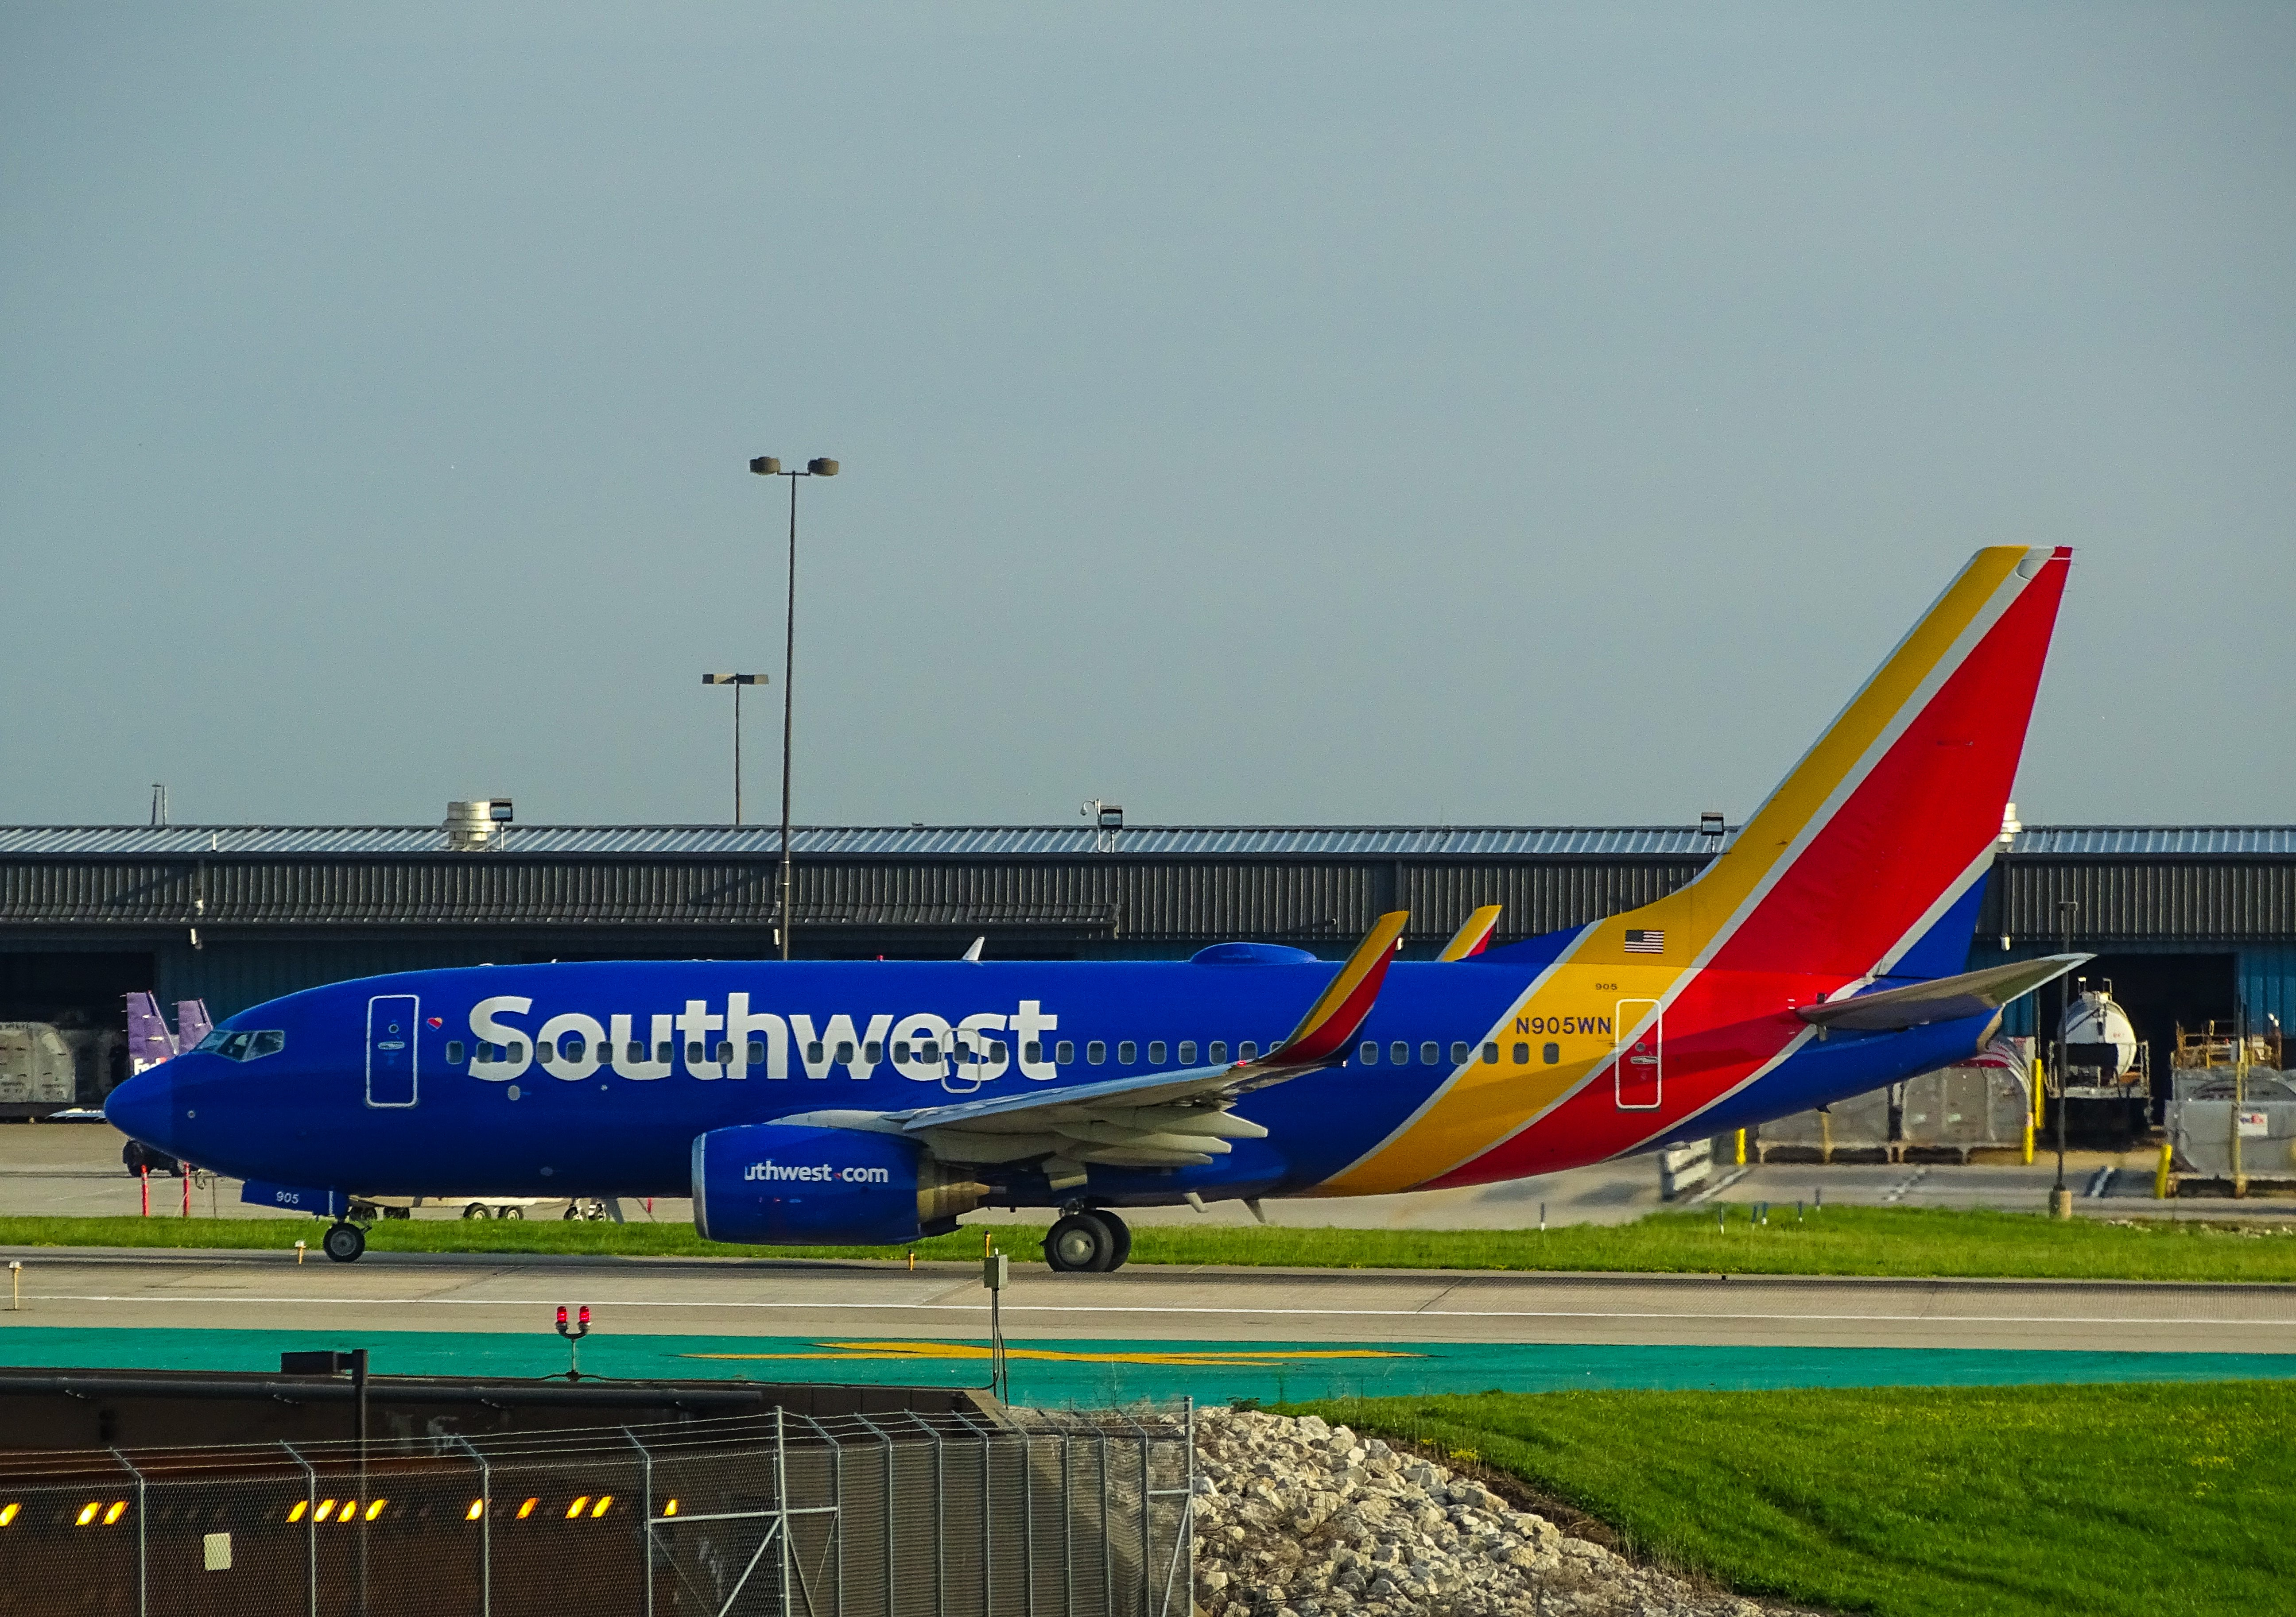airplane: (98, 563, 2084, 1272)
